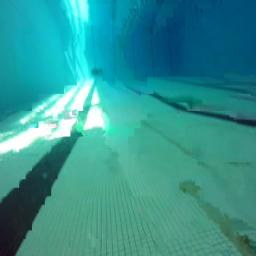Full: (91, 68, 103, 78)
